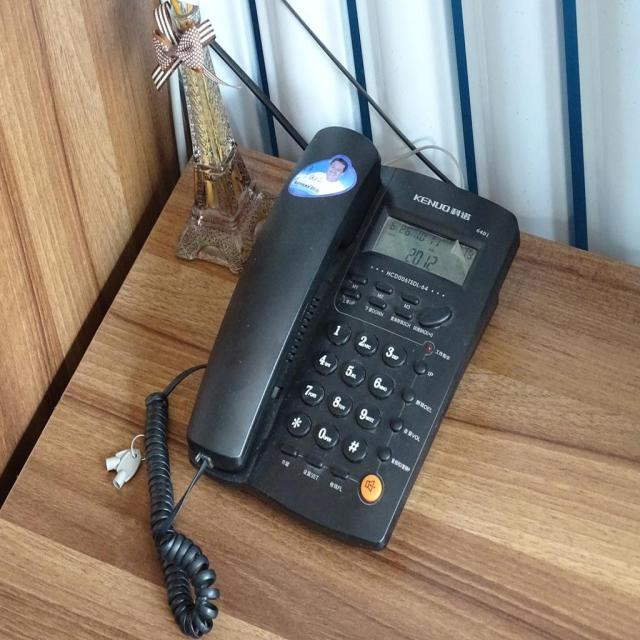Phone: (129, 122, 524, 639)
